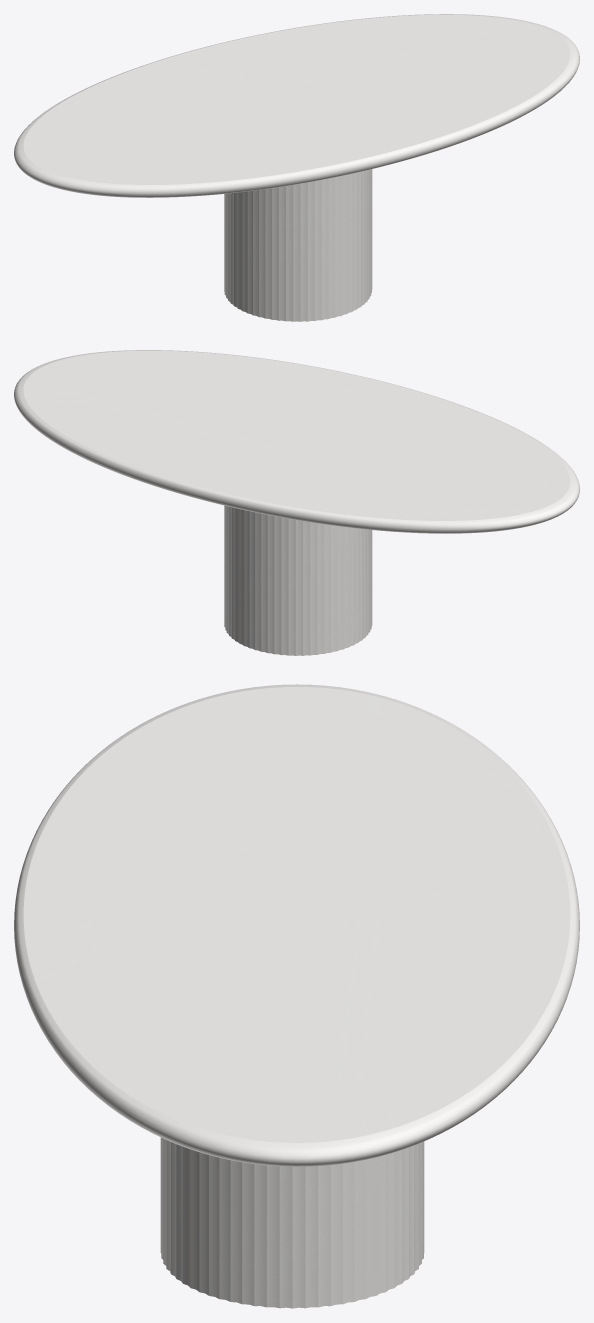
File: purewhite_ellips_round_ripple.glb
The picture shows the model from 3 angles, top to bottom: view 1: azimuth 30°, elevation 25°; view 2: azimuth 150°, elevation 25°; view 3: azimuth 270°, elevation 25°; orthographic projection. The views are drawn at different scales.
Visible parts, largest first — view 1: round_ellips, ripple; view 2: round_ellips, ripple; view 3: round_ellips, ripple.
Part boxes in pixels (left/top/right/bottom): round_ellips: left=14, top=14, right=579, bottom=197; ripple: left=224, top=169, right=372, bottom=321; round_ellips: left=14, top=350, right=579, bottom=533; ripple: left=224, top=505, right=372, bottom=655; round_ellips: left=14, top=684, right=579, bottom=1166; ripple: left=160, top=1137, right=424, bottom=1308.
Bounding box in the file's own units: 7.5 × 2.5 × 3.8.
Materials: 1 (1 with a texture image).
